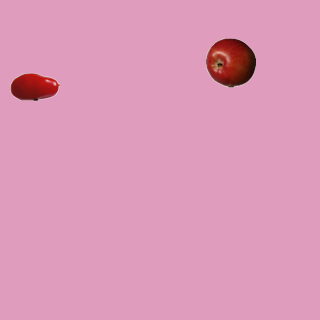Apple Braeburn: (205, 37, 255, 87)
Tomato 2: (9, 61, 59, 111)
